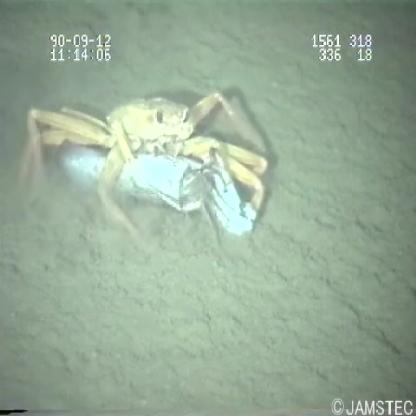Bio: (12, 85, 271, 244)
